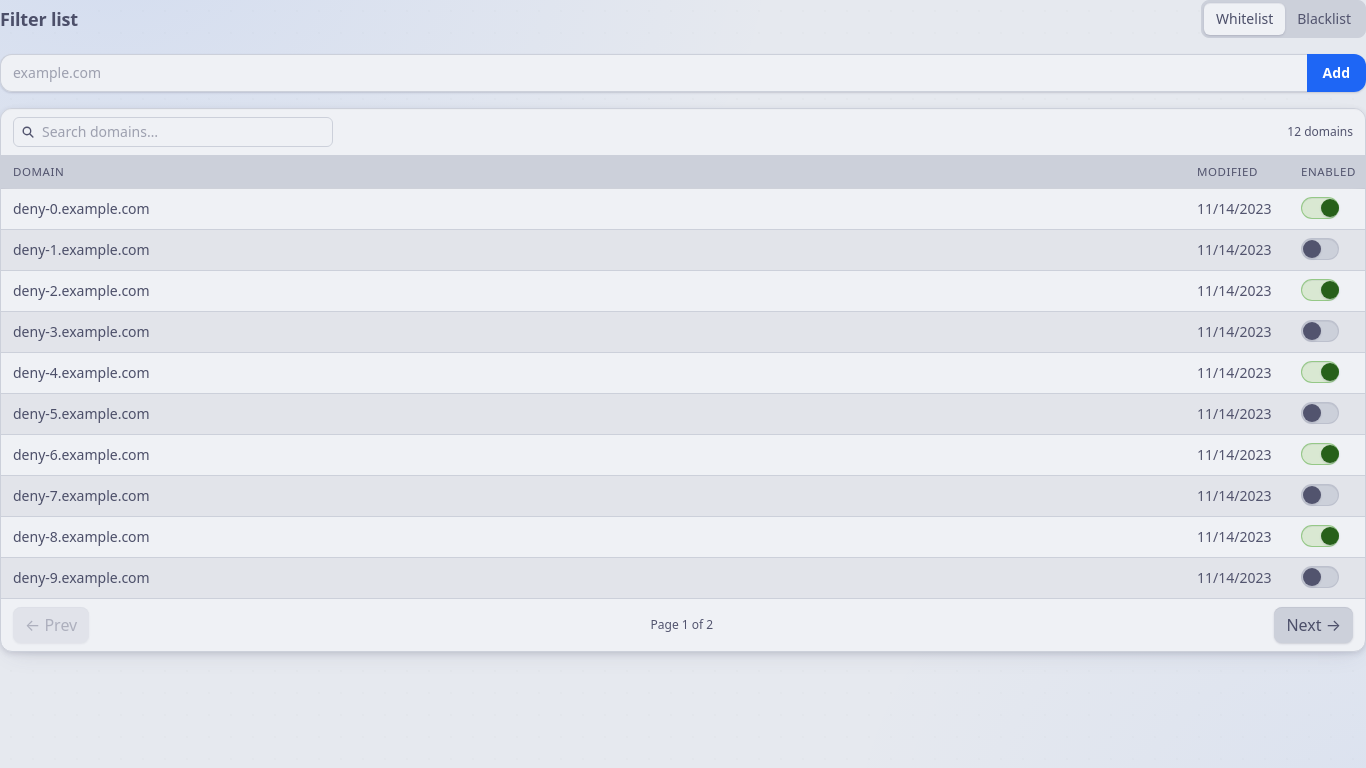
it: Filterlist page › switching to the blocklist re-fetches the deny list
This screenshot has width=1366, height=768.
Expected: the text "deny-0.example.com" is shown, [1,189,1185,230]
Click the tab with test id "segment-deny" at (1324,19), box [1285,3,1363,35]
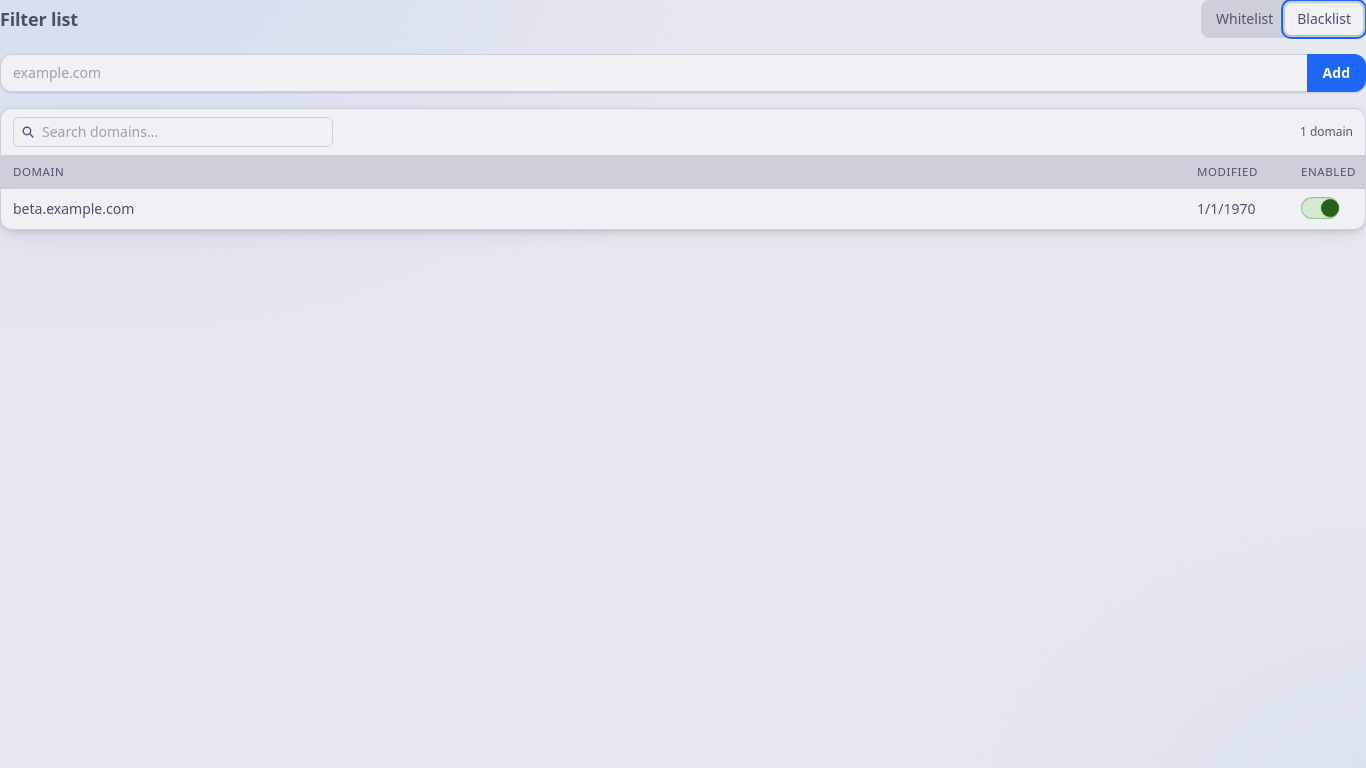
Expected: the text "beta.example.com" is shown, [1,189,1185,229]
